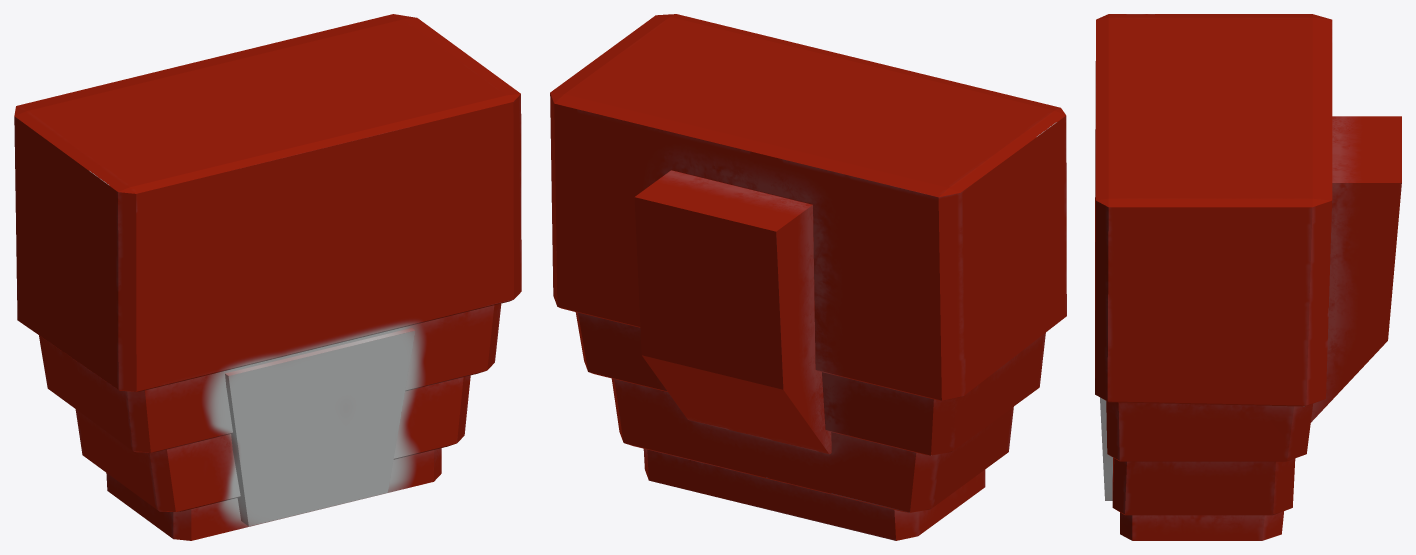
The model's file is Chest_O.obj.
3 views of the same model, side by side, from view 1: azimuth 30°, elevation 25°; view 2: azimuth 150°, elevation 25°; view 3: azimuth 270°, elevation 25° (orthographic). The views are drawn at different scales.
Visible parts, largest first — view 1: ChestO:group1 ChestO:pCube72 ChestO:polySurface1, ChestO:group ChestO:group2 ChestO:pCube64 ChestO:pasted__polySur; view 2: ChestO:group1 ChestO:pCube72 ChestO:polySurface1, ChestO:group1 ChestO:pCube75 ChestO:polySurface1; view 3: ChestO:group1 ChestO:pCube72 ChestO:polySurface1, ChestO:group1 ChestO:pCube75 ChestO:polySurface1, ChestO:group ChestO:group2 ChestO:pCube64 ChestO:pasted__polySur.
Part boxes in pixels (box(x1,y1,x2,y2)): ChestO:group1 ChestO:pCube72 ChestO:polySurface1: box(14, 14, 521, 540); ChestO:group ChestO:group2 ChestO:pCube64 ChestO:pasted__polySur: box(225, 328, 415, 526); ChestO:group1 ChestO:pCube72 ChestO:polySurface1: box(550, 14, 1066, 540); ChestO:group1 ChestO:pCube75 ChestO:polySurface1: box(634, 170, 831, 454); ChestO:group1 ChestO:pCube72 ChestO:polySurface1: box(1095, 14, 1332, 540); ChestO:group1 ChestO:pCube75 ChestO:polySurface1: box(1310, 116, 1401, 422); ChestO:group ChestO:group2 ChestO:pCube64 ChestO:pasted__polySur: box(1100, 397, 1112, 500).
Size of the model in its own units: 2.9 by 2.58 by 1.94.
1 material, 1 textured.
